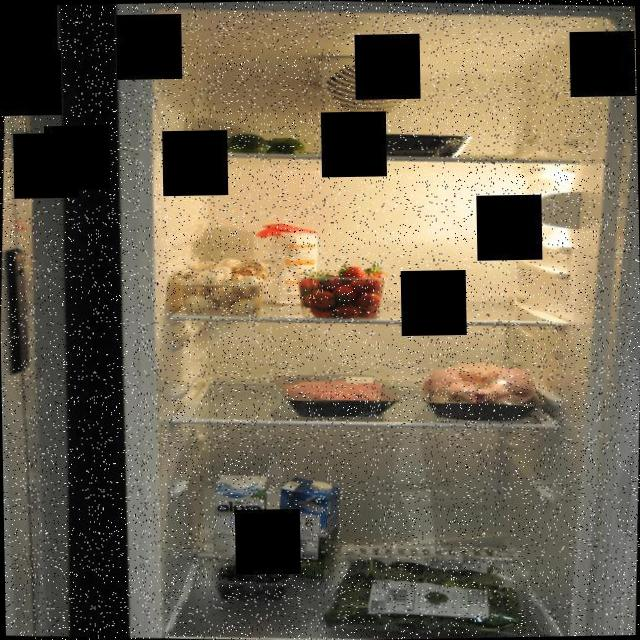Carne pollo: (414, 356, 547, 422)
Champiñones: (176, 252, 274, 318)
Leche: (276, 474, 342, 578), (210, 470, 277, 570)
